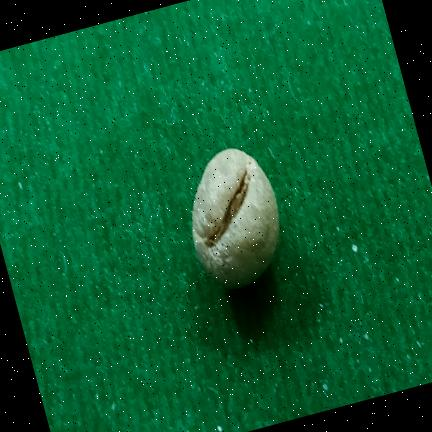cut: (192, 148, 279, 288)
